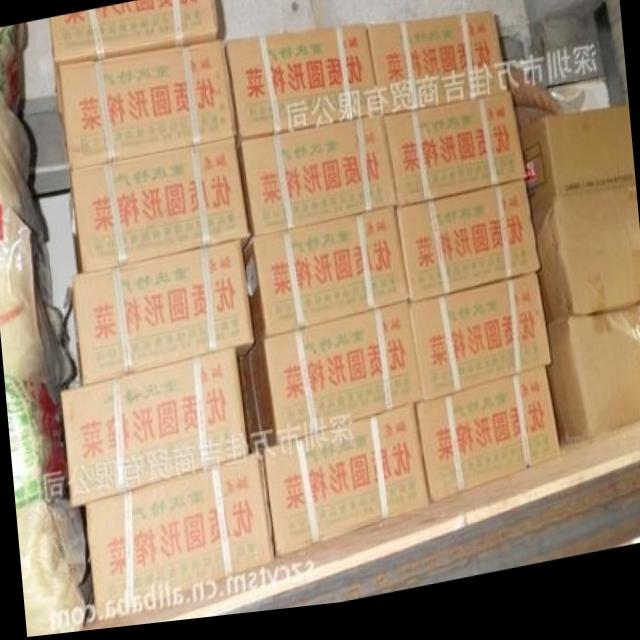box: (84, 455, 276, 625), (60, 353, 248, 510), (239, 310, 424, 457), (72, 244, 254, 387), (262, 412, 429, 563), (70, 141, 250, 275), (242, 213, 410, 351), (59, 44, 237, 170), (415, 379, 561, 512), (237, 122, 398, 242), (224, 31, 382, 153), (408, 284, 551, 411), (396, 192, 541, 312), (383, 101, 527, 215), (519, 119, 635, 246), (367, 21, 508, 124), (537, 199, 640, 337), (546, 317, 640, 454), (49, 0, 219, 66)
